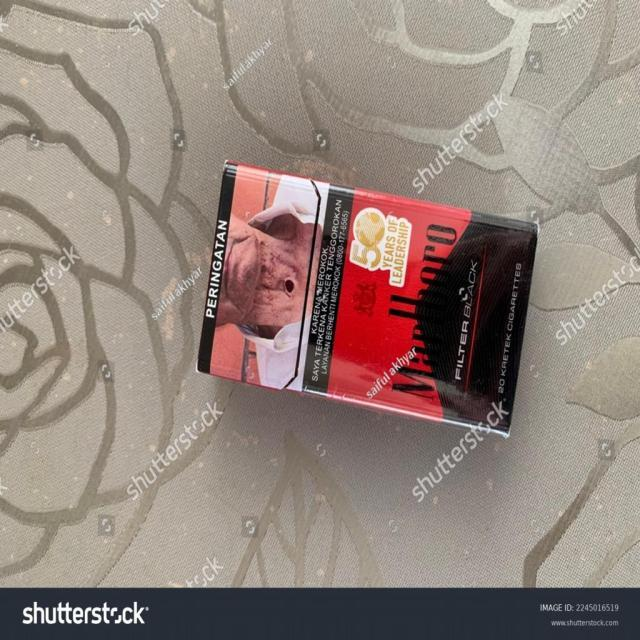smoking: (183, 160, 552, 437)
